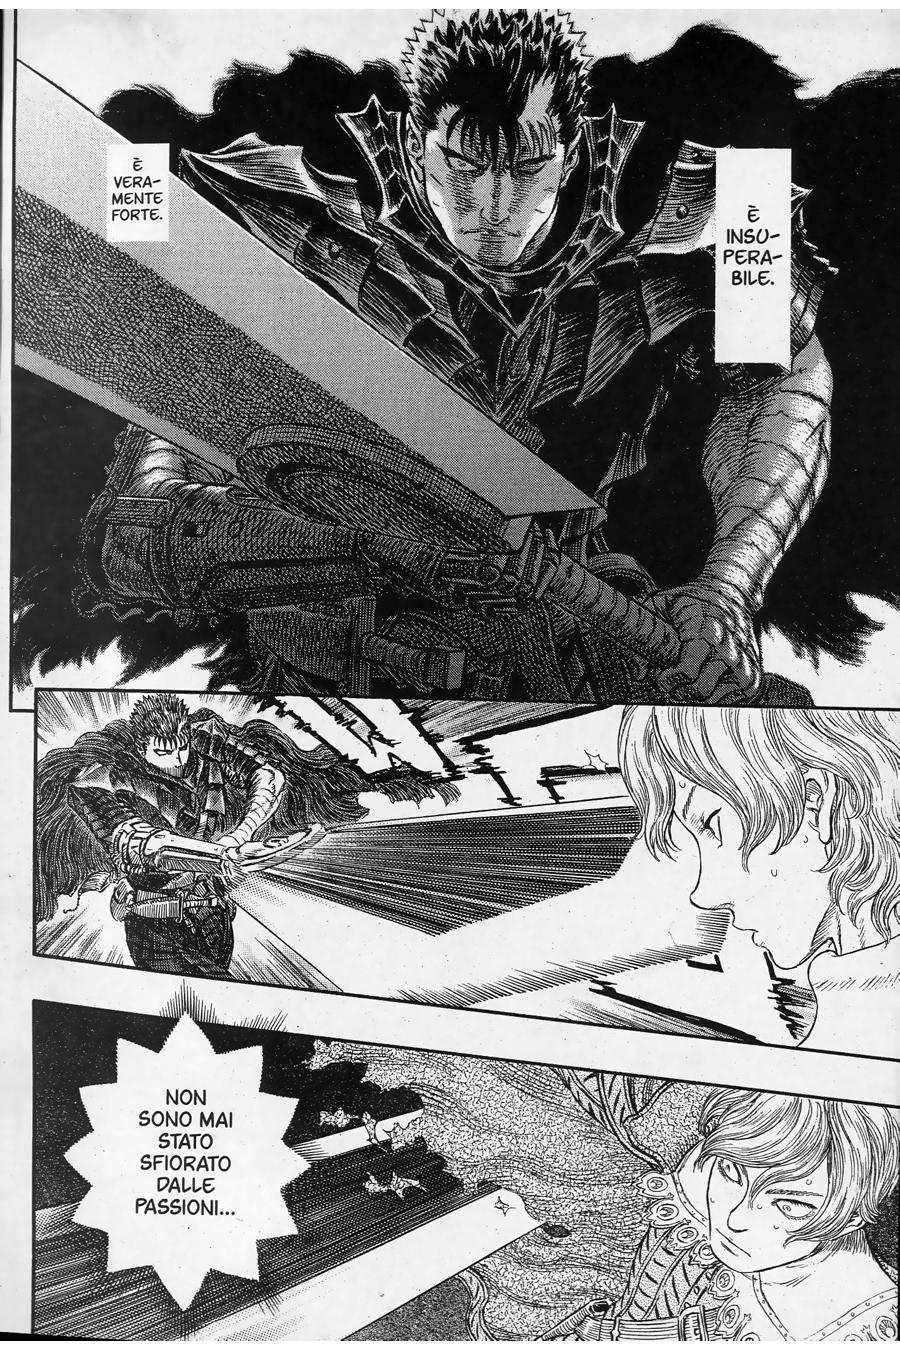Baloon: (63, 1013, 306, 1319), (712, 146, 791, 366), (106, 144, 175, 244)
Vignetta: (6, 11, 900, 710), (30, 689, 899, 1059), (32, 997, 899, 1343)
